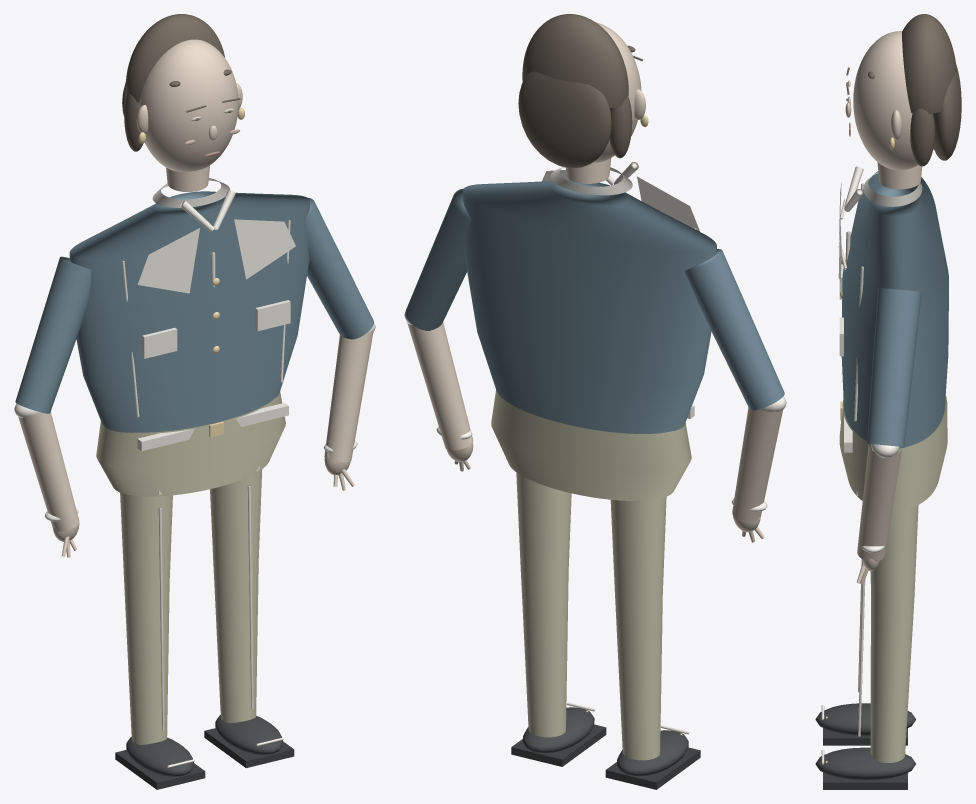
Rendered from male-relaxed.glb.
3 renders of one model, left to right at view 1: azimuth 30°, elevation 25°; view 2: azimuth 150°, elevation 25°; view 3: azimuth 270°, elevation 25°, orthographic. The views are drawn at different scales.
Parts seen in each view (by area): view 1: StyleFit Parametric Digital Human; view 2: StyleFit Parametric Digital Human; view 3: StyleFit Parametric Digital Human.
Part boxes in pixels (bbox=[...]): StyleFit Parametric Digital Human: bbox=[14, 14, 375, 789]; StyleFit Parametric Digital Human: bbox=[404, 14, 786, 789]; StyleFit Parametric Digital Human: bbox=[815, 14, 961, 789].
Size of the model in its own units: 1.18 by 2.26 by 0.4058.
